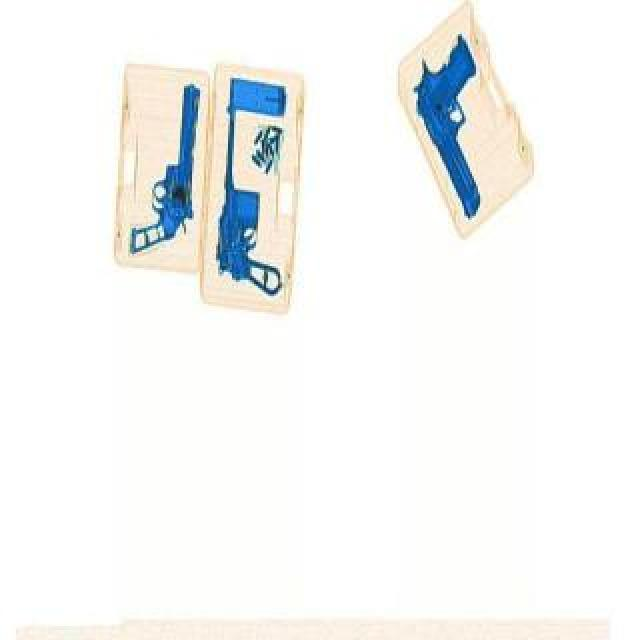gun: (390, 32, 542, 224), (212, 100, 296, 300), (126, 78, 202, 254)
